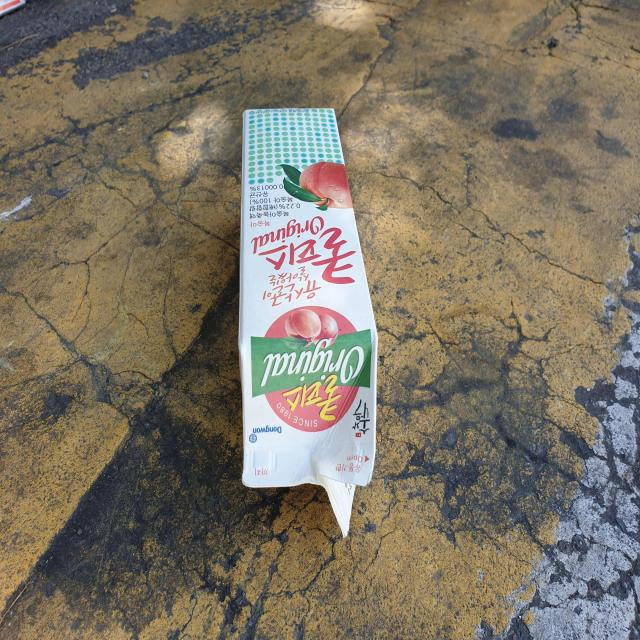paperpack: (238, 108, 378, 537)
